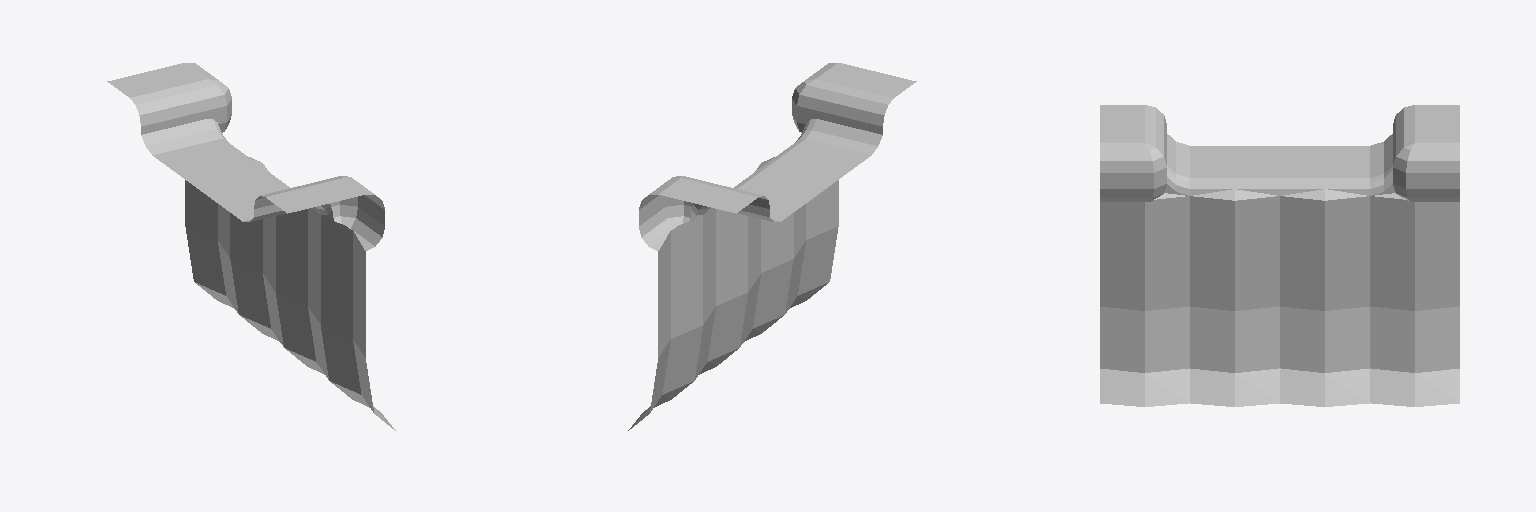
File: Track_Cliff_Edge_Standard_3_Tall_Double.obj
The picture shows the model from 3 angles: view 1: azimuth 30°, elevation 25°; view 2: azimuth 150°, elevation 25°; view 3: azimuth 270°, elevation 25°; orthographic projection.
Visible parts, largest first — view 1: Rock, Grass, Dirt; view 2: Rock, Grass, Dirt; view 3: Rock, Grass, Dirt.
Boxes of the visible parts, x1,y1,x2,y2 form: Rock: [185, 157, 395, 430]; Grass: [107, 63, 384, 250]; Dirt: [141, 119, 334, 221]; Rock: [628, 157, 838, 430]; Grass: [639, 63, 916, 250]; Dirt: [689, 119, 882, 221]; Rock: [1100, 189, 1459, 406]; Grass: [1100, 105, 1459, 201]; Dirt: [1164, 134, 1395, 195].
Bounding box in the file's own units: 1.5 × 3 × 4.